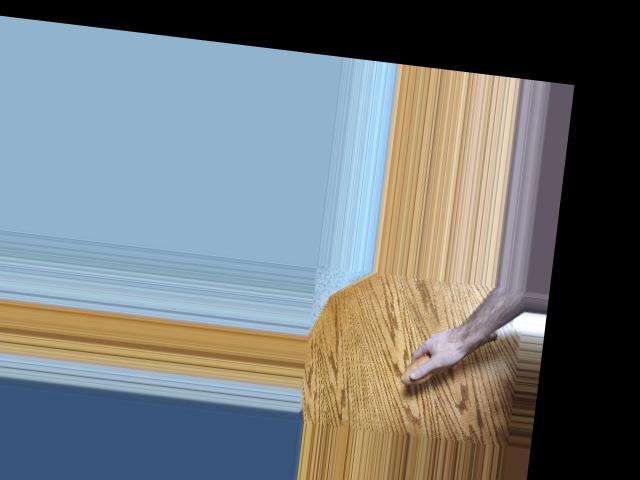sweet_potato: (398, 322, 496, 395)
